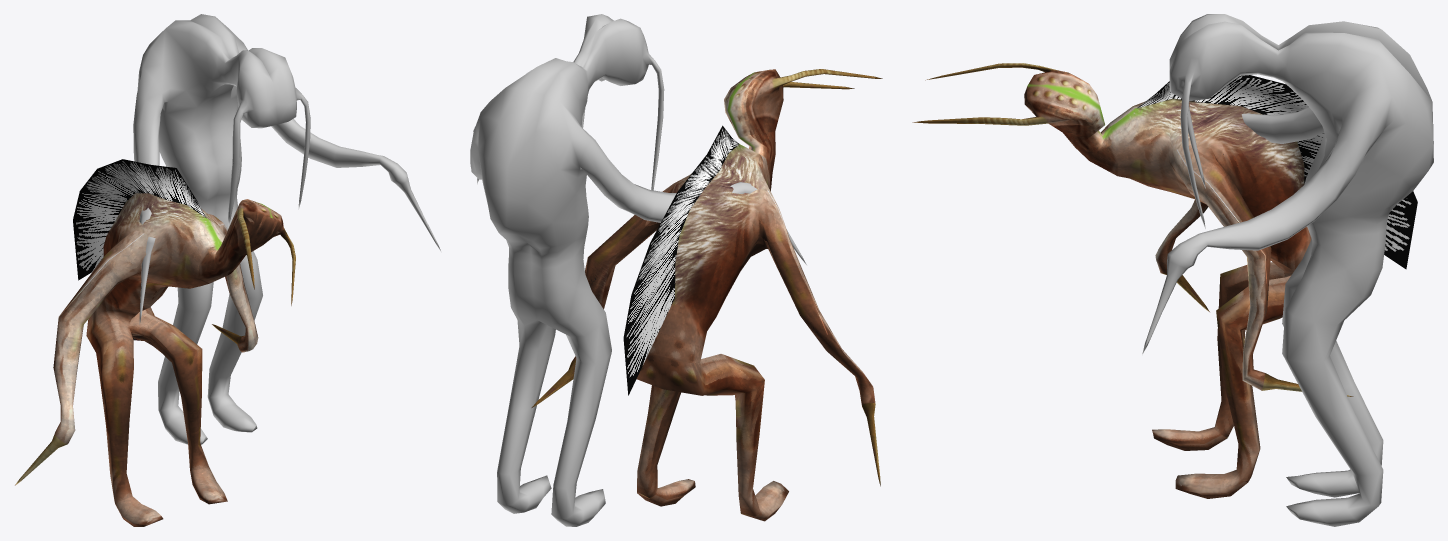
The model's file is Enemy1BindPose.obj.
3 renders of one model, left to right at view 1: azimuth 30°, elevation 25°; view 2: azimuth 150°, elevation 25°; view 3: azimuth 270°, elevation 25°, orthographic. The views are drawn at different scales.
Visible parts, largest first — view 1: Cube.002_Cube.003, Cube.001_Cube.002; view 2: Cube.001_Cube.002, Cube.002_Cube.003; view 3: Cube.001_Cube.002, Cube.002_Cube.003.
Part boxes in pixels (x1,y1,x2,y2): Cube.002_Cube.003: [15, 159, 295, 526]; Cube.001_Cube.002: [133, 14, 440, 444]; Cube.001_Cube.002: [470, 14, 806, 526]; Cube.002_Cube.003: [531, 69, 882, 521]; Cube.001_Cube.002: [1142, 14, 1433, 526]; Cube.002_Cube.003: [912, 63, 1417, 498].
Size of what is drawn, in the model's own units: 1.89 by 1.96 by 1.83.
Materials: 3 (2 with a texture image).
